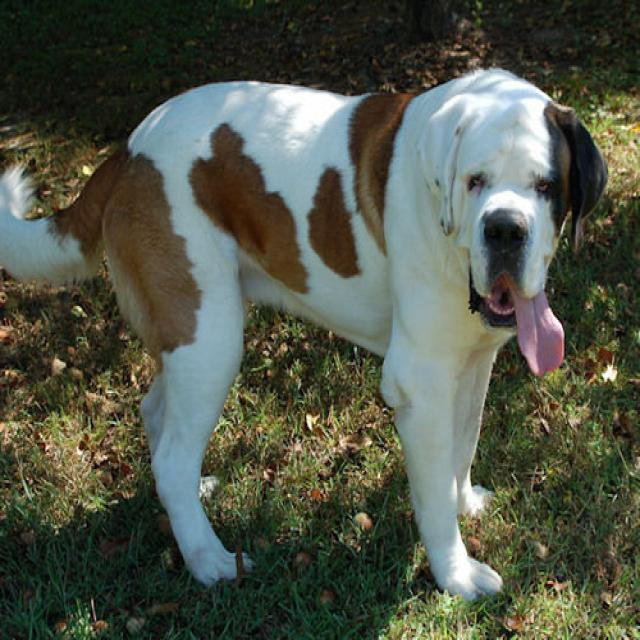dog-saint_bernard: (1, 59, 616, 606)
